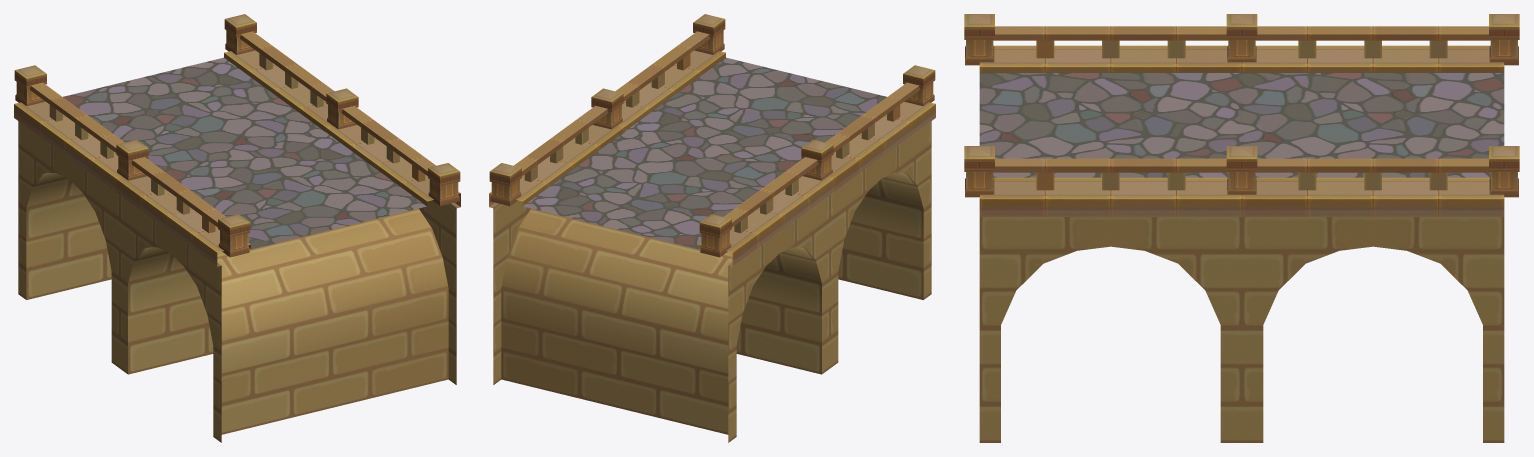
Rendered from Bridge01_b01.FBX.
3 views of the same model, side by side, from view 1: azimuth 30°, elevation 25°; view 2: azimuth 150°, elevation 25°; view 3: azimuth 270°, elevation 25° (orthographic). The views are drawn at different scales.
Visible parts, largest first — view 1: Bridge01_b01; view 2: Bridge01_b01; view 3: Bridge01_b01.
Part boxes in pixels (x1,y1,x2,y2): Bridge01_b01: (14,14,460,442); Bridge01_b01: (489,14,935,442); Bridge01_b01: (964,14,1519,442).
Size of the model in its own units: 985 by 860 by 1508.
